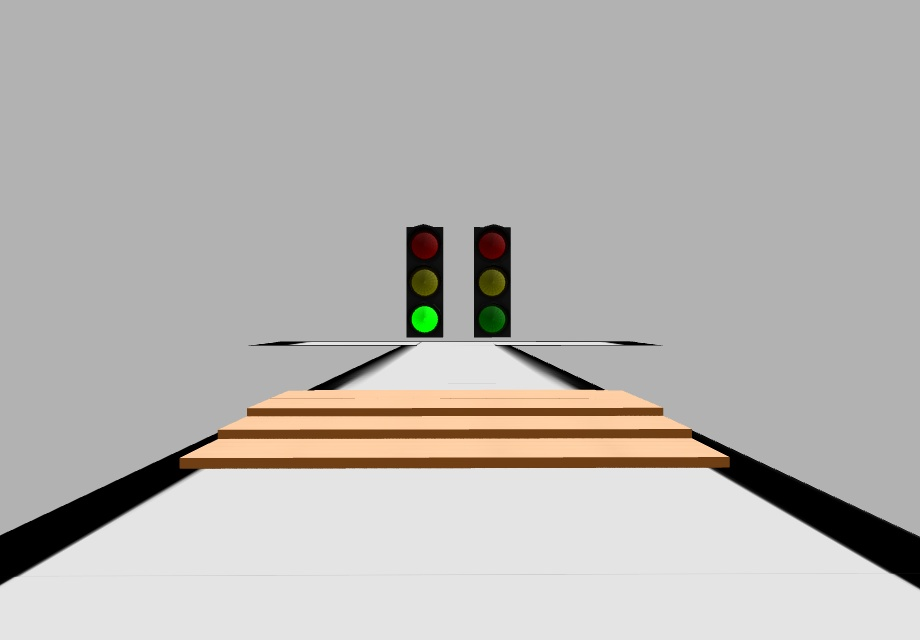green_off: (475, 304, 512, 338)
green_on: (406, 301, 441, 334)
stairs: (176, 391, 728, 467)
